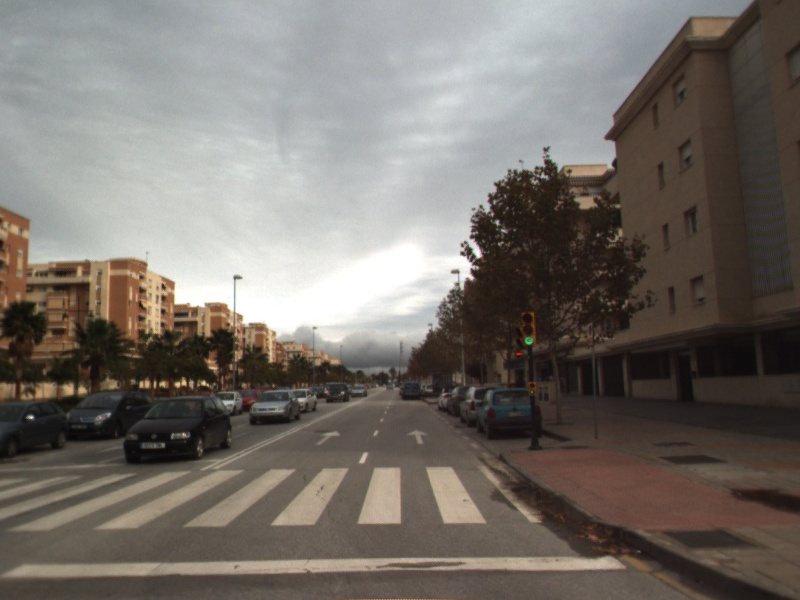STRAIGHT: (313, 428, 343, 447), (405, 427, 431, 446)
